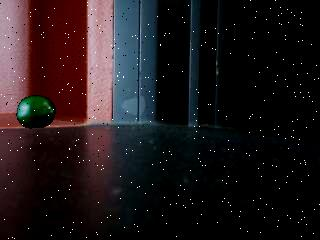Lime: (17, 94, 56, 129)
